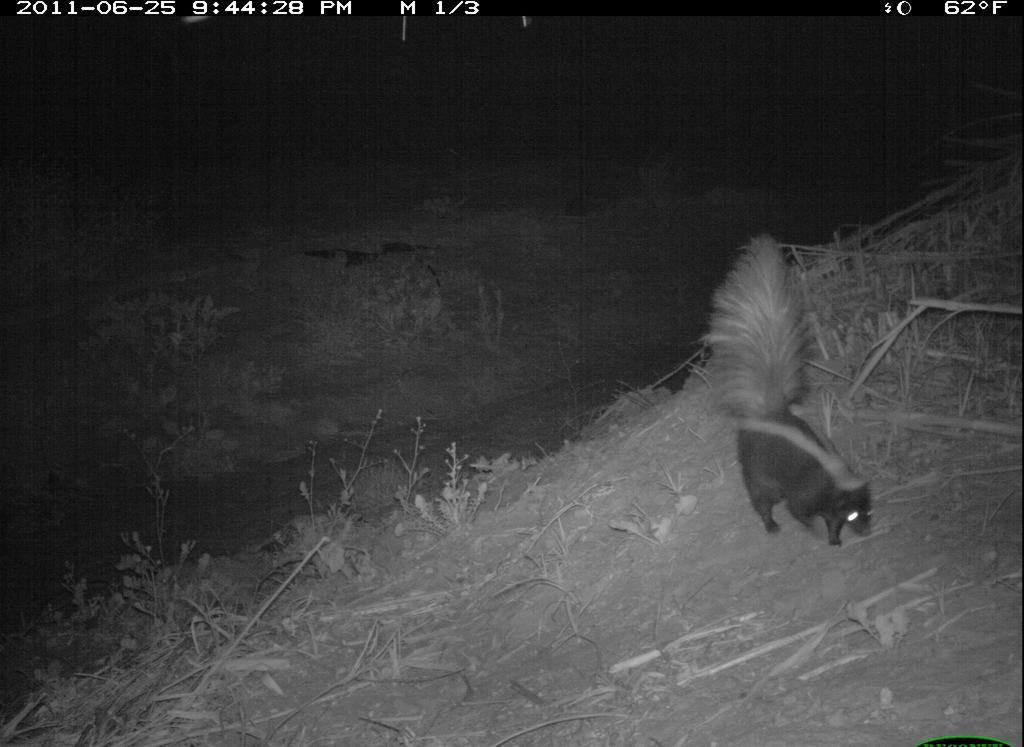skunk: (680, 228, 886, 542)
